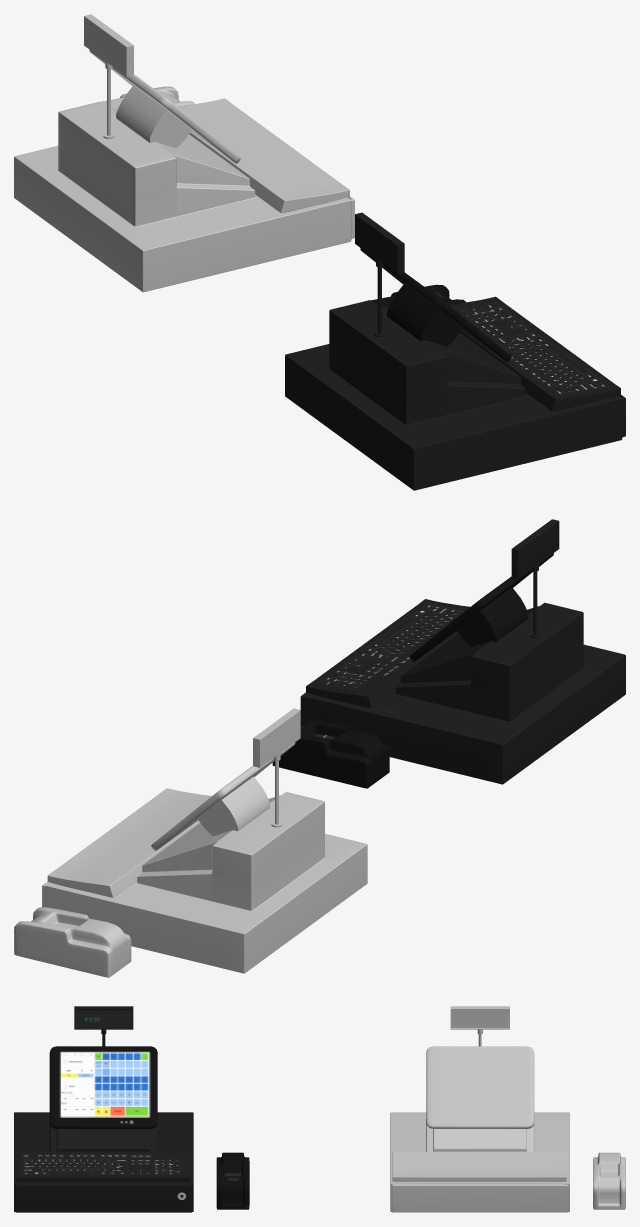
File: digital-cash-register.fbx
3 views of the same model, one above another, from view 1: azimuth 30°, elevation 25°; view 2: azimuth 150°, elevation 25°; view 3: azimuth 270°, elevation 25° (orthographic). The views are drawn at different scales.
Parts seen in each view (by area): view 1: SM_Cash_register.002_T_Cash_register_worn_0, SM_Cash_register.001_T_Cash_register_clean_0, SM_Keyboard.002_T_Cash_register_worn_0, SM_Keyboard.001_T_Cash_register_clean_0, SM_Screen.002_T_Cash_register_worn_0, SM_Screen.001_T_Cash_register_clean_0, SM_Cash_register_screen.002_T_Cash_register_worn_0, SM_Cash_register_screen.001_T_Cash_register_clean_0; view 2: SM_Cash_register.001_T_Cash_register_clean_0, SM_Cash_register.002_T_Cash_register_worn_0, SM_Keyboard.002_T_Cash_register_worn_0, SM_Keyboard.001_T_Cash_register_clean_0, SM_Cash_register_terminal.002_T_Cash_register_worn_0, SM_Cash_register_terminal.001_T_Cash_register_clean_0, SM_Screen.002_T_Cash_register_worn_0, SM_Screen.001_T_Cash_register_clean_0, SM_Cash_register_screen.001_T_Cash_register_clean_0, SM_Cash_register_screen.002_T_Cash_register_worn_0; view 3: SM_Screen.002_T_Cash_register_worn_0, SM_Screen.001_T_Cash_register_clean_0, SM_Cash_register.002_T_Cash_register_worn_0, SM_Cash_register.001_T_Cash_register_clean_0, SM_Keyboard.001_T_Cash_register_clean_0, SM_Keyboard.002_T_Cash_register_worn_0, SM_Cash_drawer.002_T_Cash_register_worn_0, SM_Cash_drawer.001_T_Cash_register_clean_0, SM_Cash_register_terminal.001_T_Cash_register_clean_0, SM_Cash_register_terminal.002_T_Cash_register_worn_0, SM_Cash_register_screen.002_T_Cash_register_worn_0, SM_Cash_register_screen.001_T_Cash_register_clean_0.
Part boxes in pixels (<box>): SM_Cash_register.002_T_Cash_register_worn_0: <box>14,101,351,292</box>; SM_Cash_register.001_T_Cash_register_clean_0: <box>285,300,622,490</box>; SM_Keyboard.002_T_Cash_register_worn_0: <box>178,98,349,213</box>; SM_Keyboard.001_T_Cash_register_clean_0: <box>449,296,620,411</box>; SM_Screen.002_T_Cash_register_worn_0: <box>89,50,240,163</box>; SM_Screen.001_T_Cash_register_clean_0: <box>360,248,511,361</box>; SM_Cash_register_screen.002_T_Cash_register_worn_0: <box>84,14,133,76</box>; SM_Cash_register_screen.001_T_Cash_register_clean_0: <box>355,212,404,274</box>; SM_Cash_register.001_T_Cash_register_clean_0: <box>304,602,625,784</box>; SM_Cash_register.002_T_Cash_register_worn_0: <box>45,792,367,973</box>; SM_Keyboard.002_T_Cash_register_worn_0: <box>47,788,211,897</box>; SM_Keyboard.001_T_Cash_register_clean_0: <box>306,599,470,708</box>; SM_Cash_register_terminal.002_T_Cash_register_worn_0: <box>14,907,131,977</box>; SM_Cash_register_terminal.001_T_Cash_register_clean_0: <box>272,718,389,788</box>; SM_Screen.002_T_Cash_register_worn_0: <box>151,742,295,850</box>; SM_Screen.001_T_Cash_register_clean_0: <box>409,553,553,661</box>; SM_Cash_register_screen.001_T_Cash_register_clean_0: <box>511,519,559,578</box>; SM_Cash_register_screen.002_T_Cash_register_worn_0: <box>253,708,300,767</box>; SM_Screen.002_T_Cash_register_worn_0: <box>426,1046,534,1128</box>; SM_Screen.001_T_Cash_register_clean_0: <box>49,1046,157,1128</box>; SM_Cash_register.002_T_Cash_register_worn_0: <box>390,1112,569,1211</box>; SM_Cash_register.001_T_Cash_register_clean_0: <box>14,1112,193,1211</box>; SM_Keyboard.001_T_Cash_register_clean_0: <box>16,1151,190,1181</box>; SM_Keyboard.002_T_Cash_register_worn_0: <box>392,1151,566,1181</box>; SM_Cash_drawer.002_T_Cash_register_worn_0: <box>391,1184,568,1212</box>; SM_Cash_drawer.001_T_Cash_register_clean_0: <box>15,1184,192,1212</box>; SM_Cash_register_terminal.001_T_Cash_register_clean_0: <box>216,1152,249,1209</box>; SM_Cash_register_terminal.002_T_Cash_register_worn_0: <box>593,1152,625,1209</box>; SM_Cash_register_screen.002_T_Cash_register_worn_0: <box>450,1006,509,1029</box>; SM_Cash_register_screen.001_T_Cash_register_clean_0: <box>74,1006,133,1029</box>.
Bounding box in the file's own units: 44.61 × 41.41 × 159.
